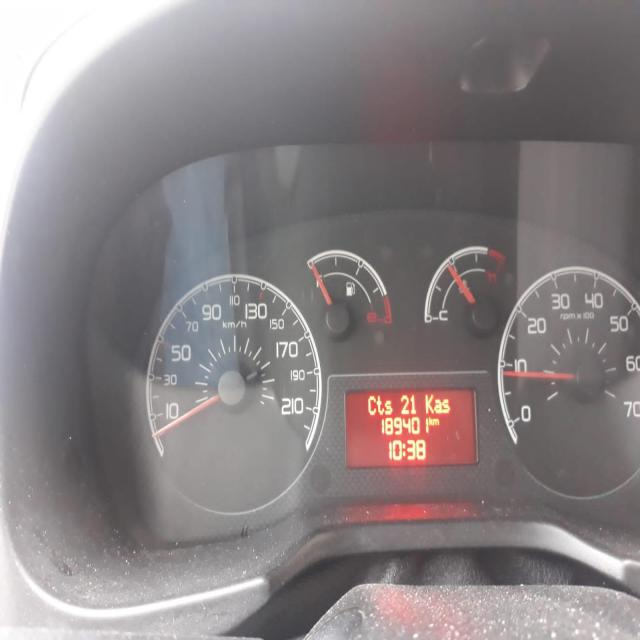odometer: (343, 386, 479, 471)
